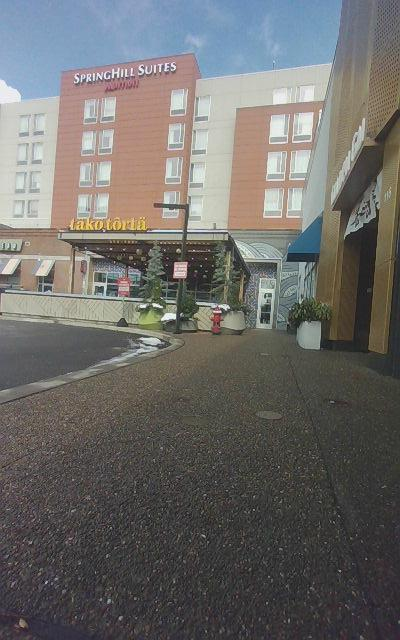curb: (0, 330, 399, 639)
road: (0, 319, 167, 390)
